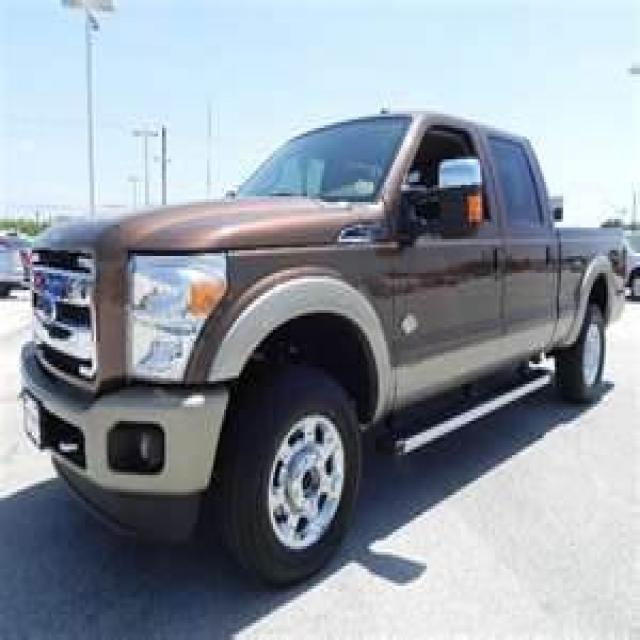car: (11, 94, 620, 583)
